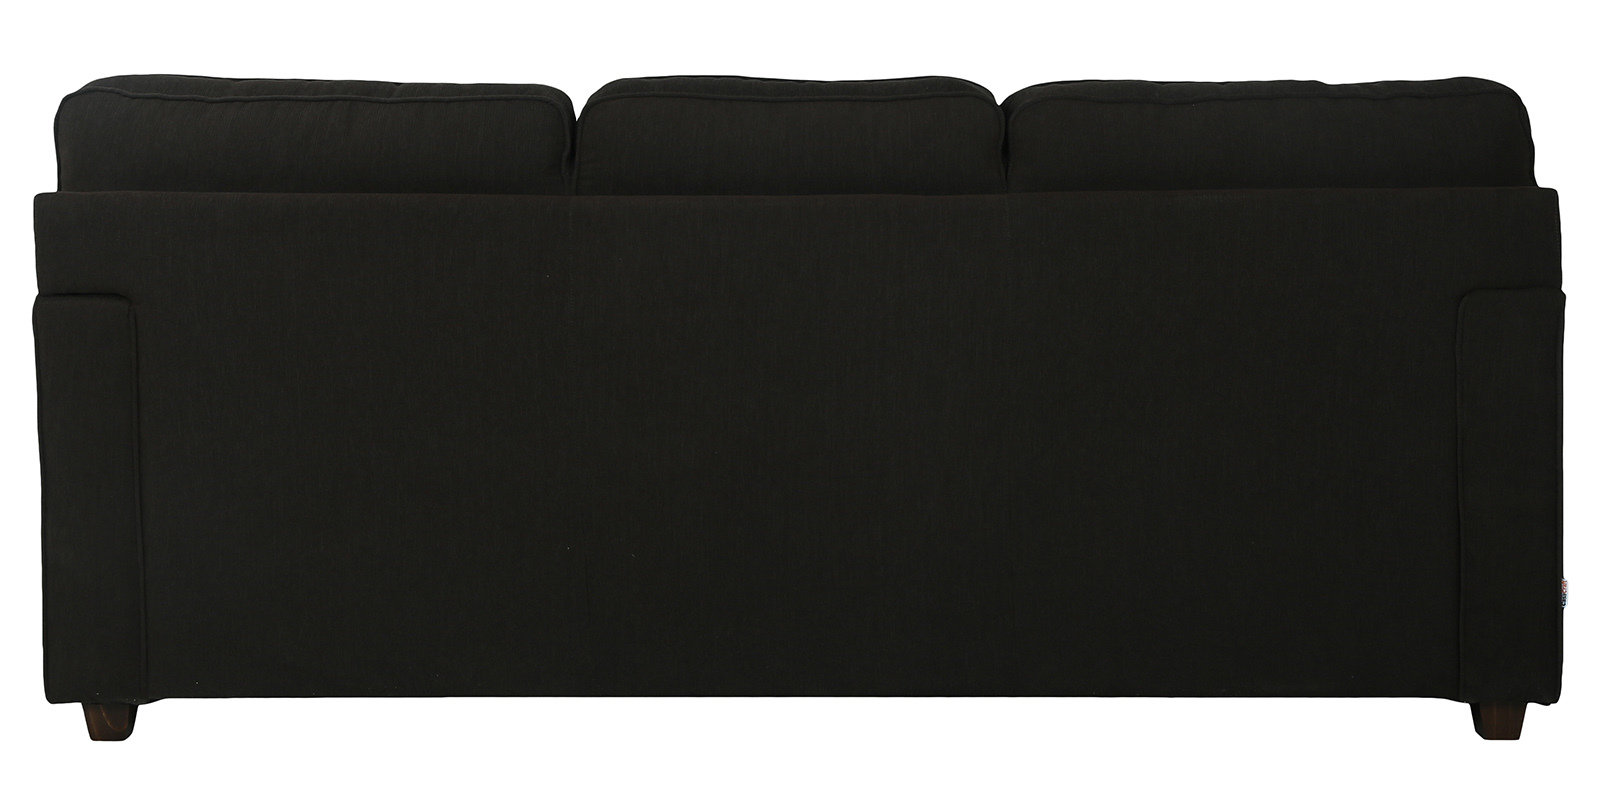Parana Three Seater Sofa in Chestnut Brown Color by CasaCraft: (30, 72, 1566, 744)
